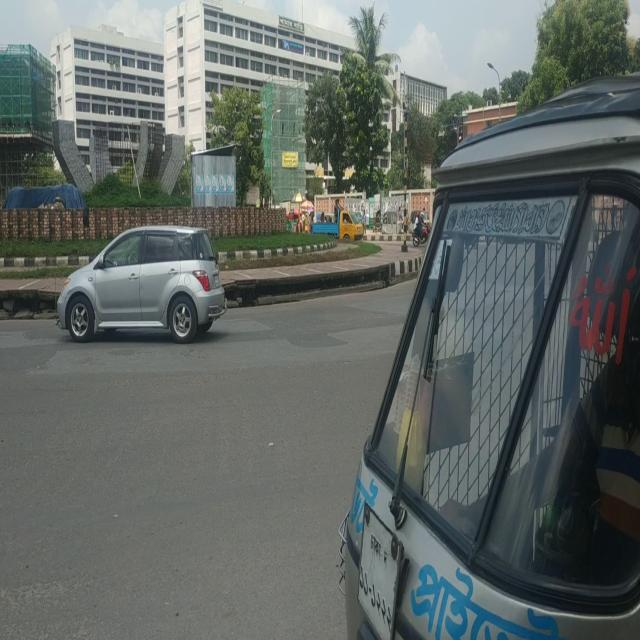silver: (59, 226, 228, 339)
